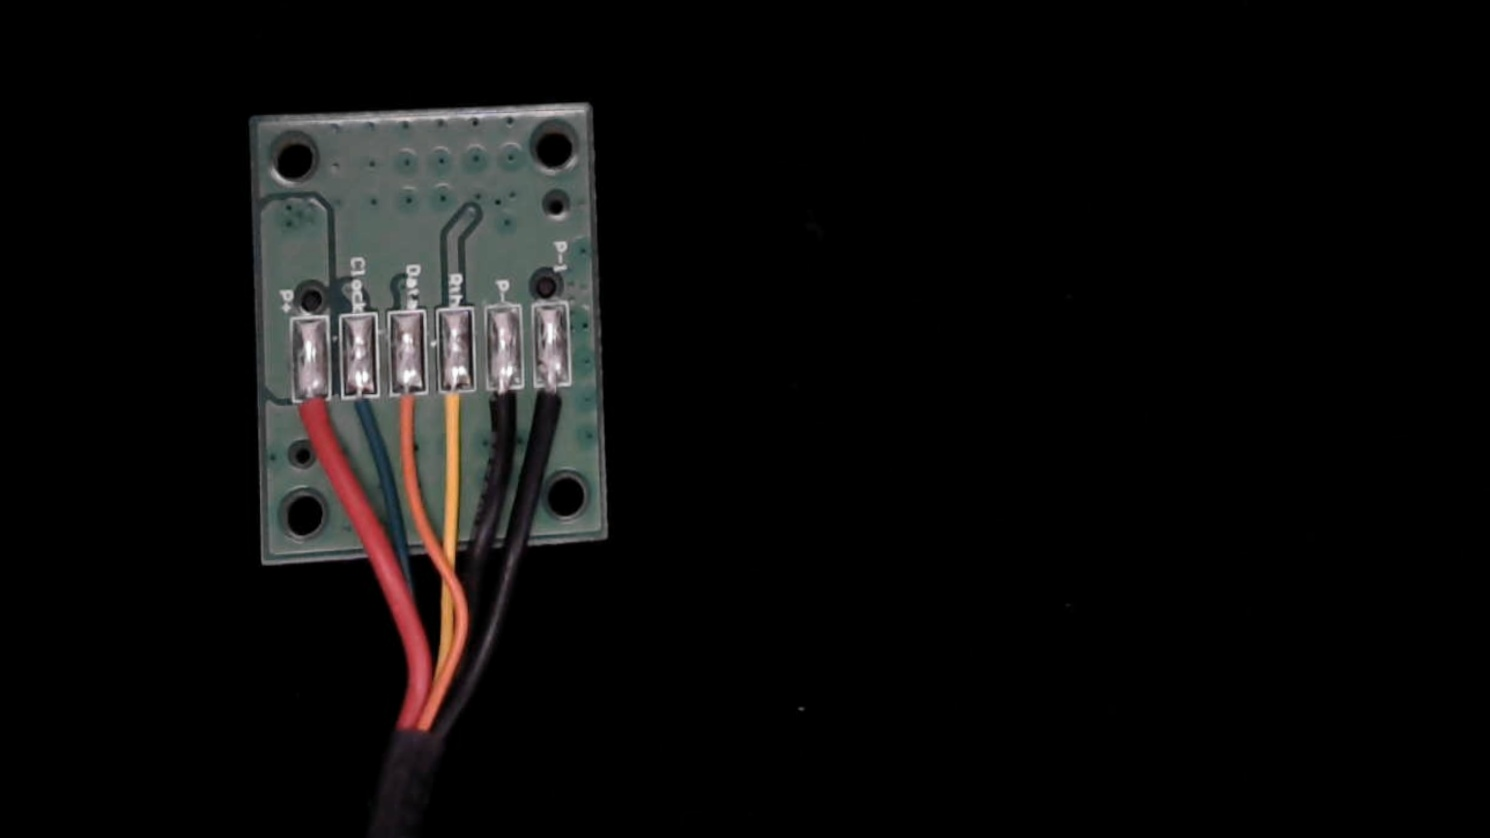Black: (488, 364, 520, 456)
Black1: (533, 363, 571, 440)
Green: (342, 371, 377, 455)
Orange: (390, 371, 426, 452)
Red: (290, 376, 328, 459)
Yellow: (437, 365, 474, 458)
